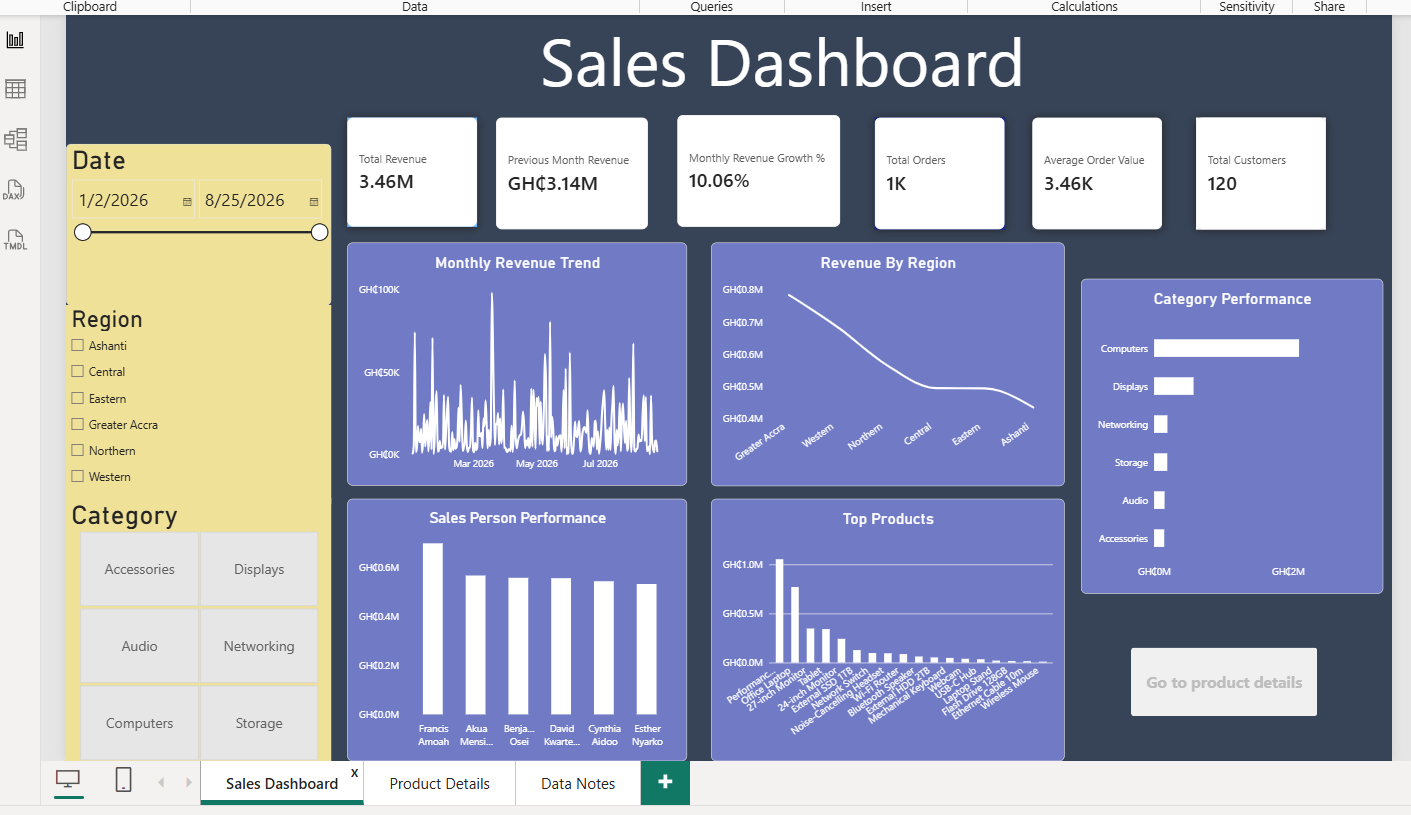

The page's visual inventory and layout, read from the dashboard file:
{"tool":"powerbi","page":{"name":"Sales Dashboard","canvas":[1920,1080],"ordinal":0},"visuals":[{"type":"cardVisual","title":"Total Revenue","fields":{"Data":["orders.Total Revenue"]},"box":[1466,290,188,158],"z":0},{"type":"cardVisual","fields":{"Data":["orders.Total Orders"]},"box":[1696,290,188,158],"z":1000},{"type":"cardVisual","fields":{"Data":["orders.Average Order Value"]},"box":[1466,486,188,156],"z":2000},{"type":"cardVisual","fields":{"Data":["orders.Total Customers"]},"box":[1696,486,188,156],"z":3000},{"type":"slicer","fields":{"Values":["orders.OrderDate"]},"box":[0,160,384,234],"z":4000},{"type":"slicer","fields":{"Values":["products.Category"]},"box":[0,682,384,380],"z":5000},{"type":"lineChart","title":"Monthly Revenue Trend","fields":{"Category":["orders.OrderDate.Variation.Date Hierarchy.Month"],"Y":["orders.Total Revenue"]},"box":[408,290,492,352],"z":6000},{"type":"slicer","fields":{"Values":["customers.Region"]},"box":[0,394,384,288],"z":7000},{"type":"lineChart","title":"Revenue By Region","fields":{"Category":["customers.Region"],"Y":["orders.Total Revenue"]},"box":[934,290,492,352],"z":8000},{"type":"clusteredColumnChart","title":"Top Products","fields":{"Category":["products.ProductName"],"Y":["orders.Total Revenue"]},"box":[934,682,492,380],"z":9000},{"type":"clusteredColumnChart","title":"Sales Person Performance","fields":{"Category":["orders.SalesPerson"],"Y":["orders.Total Revenue"]},"box":[408,682,492,380],"z":10000},{"type":"textbox","box":[656,140,766,138],"z":11000},{"type":"clusteredBarChart","title":"Category Performance","fields":{"Category":["products.Category"],"Y":["orders.Total Revenue"]},"box":[1462,682,436,380],"z":11001}]}

Visuals, with their boxes on the page's 1920x1080 design canvas (x1, y1, x2, y2). These are canvas units, not pixel positions in the 1411x815 screenshot, which may show the page scaled, cropped or inside an application window:
"Total Revenue" cardVisual: crop(1466, 290, 1654, 448)
cardVisual - orders.Total Orders: crop(1696, 290, 1884, 448)
cardVisual - orders.Average Order Value: crop(1466, 486, 1654, 642)
cardVisual - orders.Total Customers: crop(1696, 486, 1884, 642)
slicer - orders.OrderDate: crop(0, 160, 384, 394)
slicer - products.Category: crop(0, 682, 384, 1062)
"Monthly Revenue Trend" lineChart: crop(408, 290, 900, 642)
slicer - customers.Region: crop(0, 394, 384, 682)
"Revenue By Region" lineChart: crop(934, 290, 1426, 642)
"Top Products" clusteredColumnChart: crop(934, 682, 1426, 1062)
"Sales Person Performance" clusteredColumnChart: crop(408, 682, 900, 1062)
textbox: crop(656, 140, 1422, 278)
"Category Performance" clusteredBarChart: crop(1462, 682, 1898, 1062)
